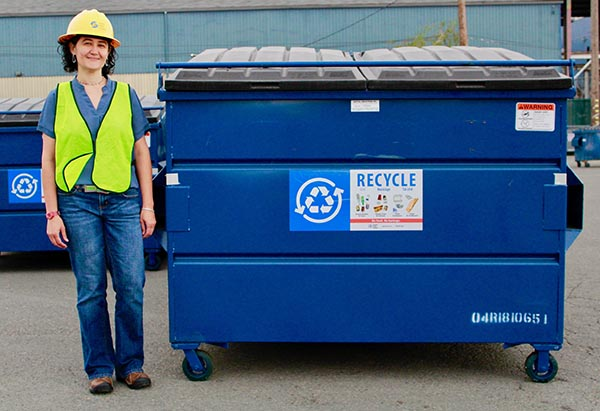Dumpster: (151, 42, 590, 394)
Person: (30, 3, 166, 399)
